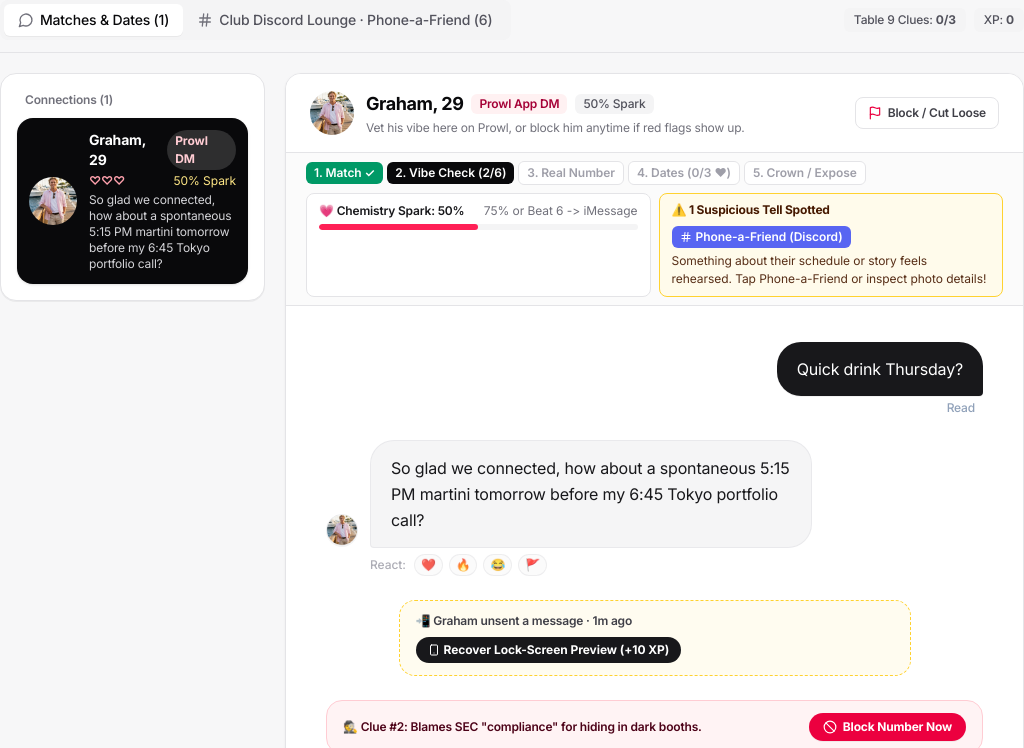
it: v38 ENM/Poly Radar, Monster Prom 4-Stat Archetype Run, Thermal Receipts, iOS Unsent Slips, 39-Pick Shop & Dynamic /api/og › recovers accidental iOS unsent lock-screen slips on Trap leads and translates Gen-X sincere 👍 tapbacks
Later steps or results of the test are not shown.
Expected: the element with test id "ios-unsent-slip-card" is shown, left=398, top=600, right=910, bottom=676
Click the button with test id "recover-unsent-preview-btn". click: (548, 650)
box: left=416, top=637, right=681, bottom=663
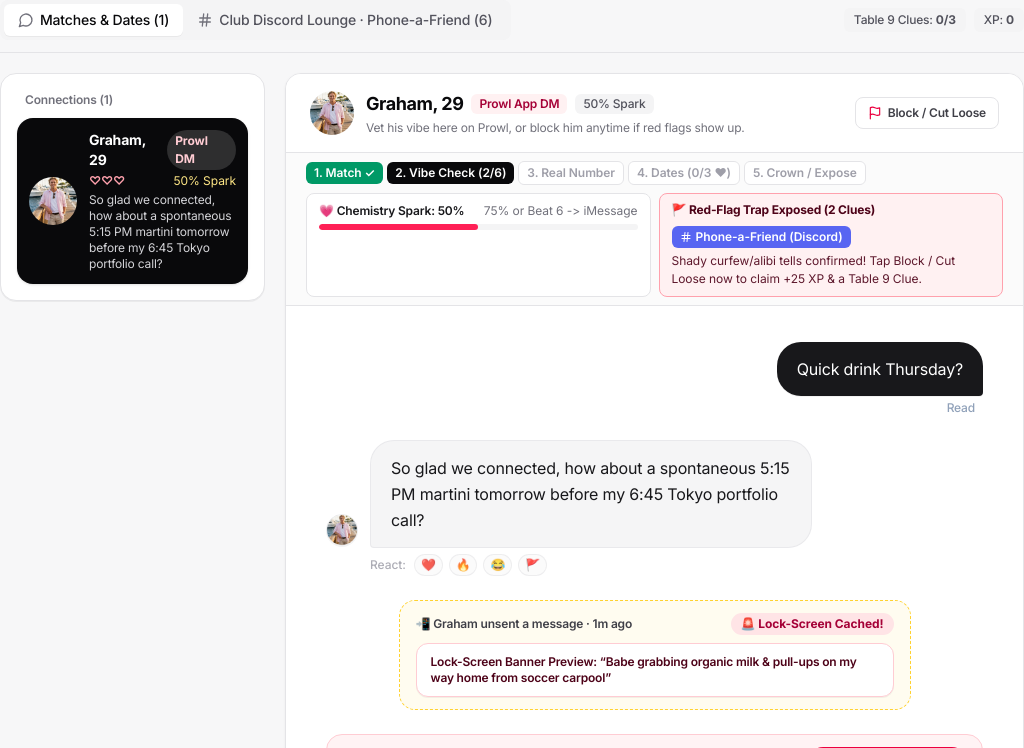
Now the text with test id "ios-unsent-recovered-text" shows "organic milk & pull-ups", box left=430, top=654, right=857, bottom=685
